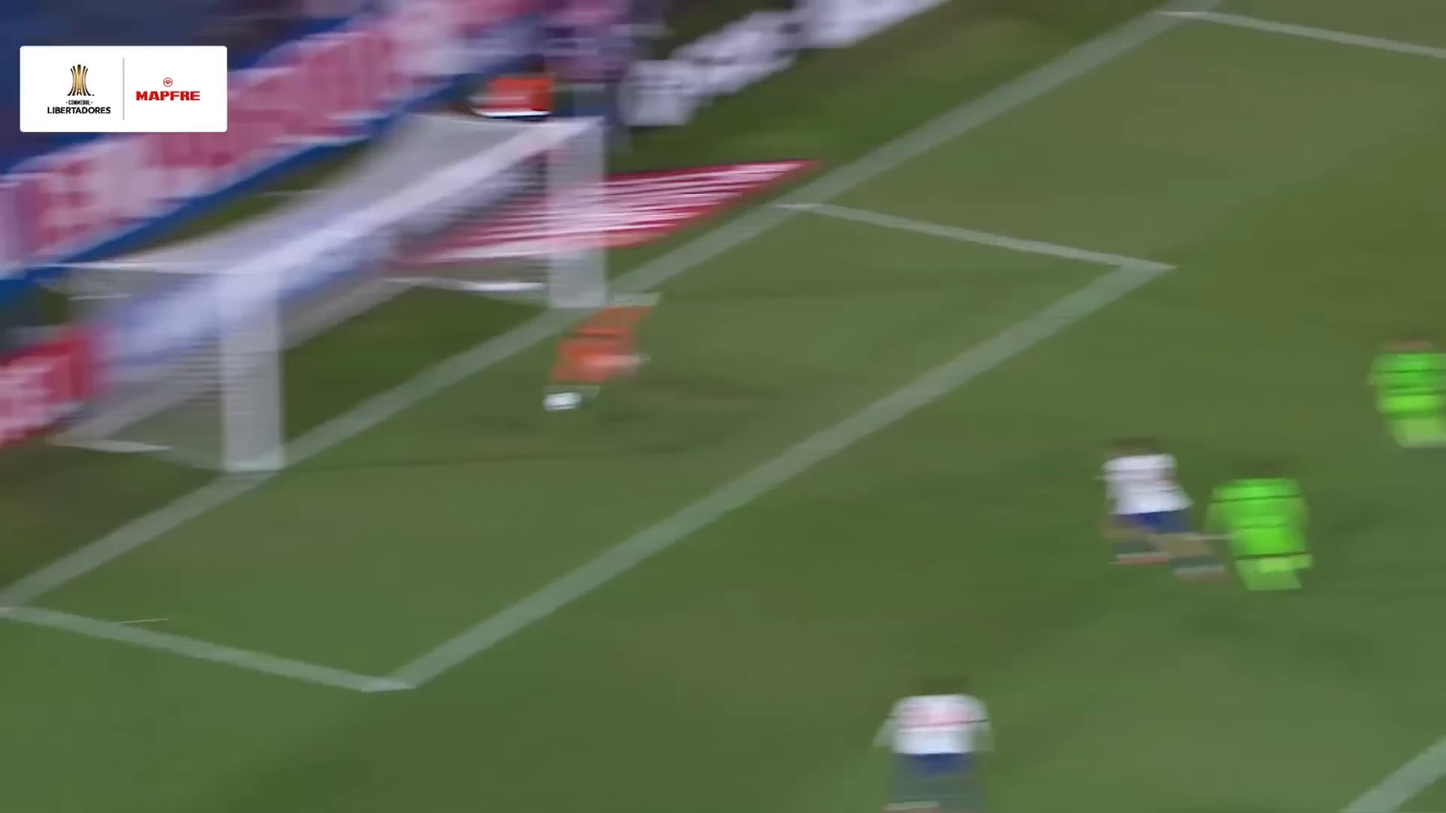ball: (545, 387, 581, 422)
player: (1085, 435, 1207, 587), (538, 288, 668, 413), (868, 682, 999, 797), (1214, 458, 1312, 599), (1365, 334, 1446, 467)
